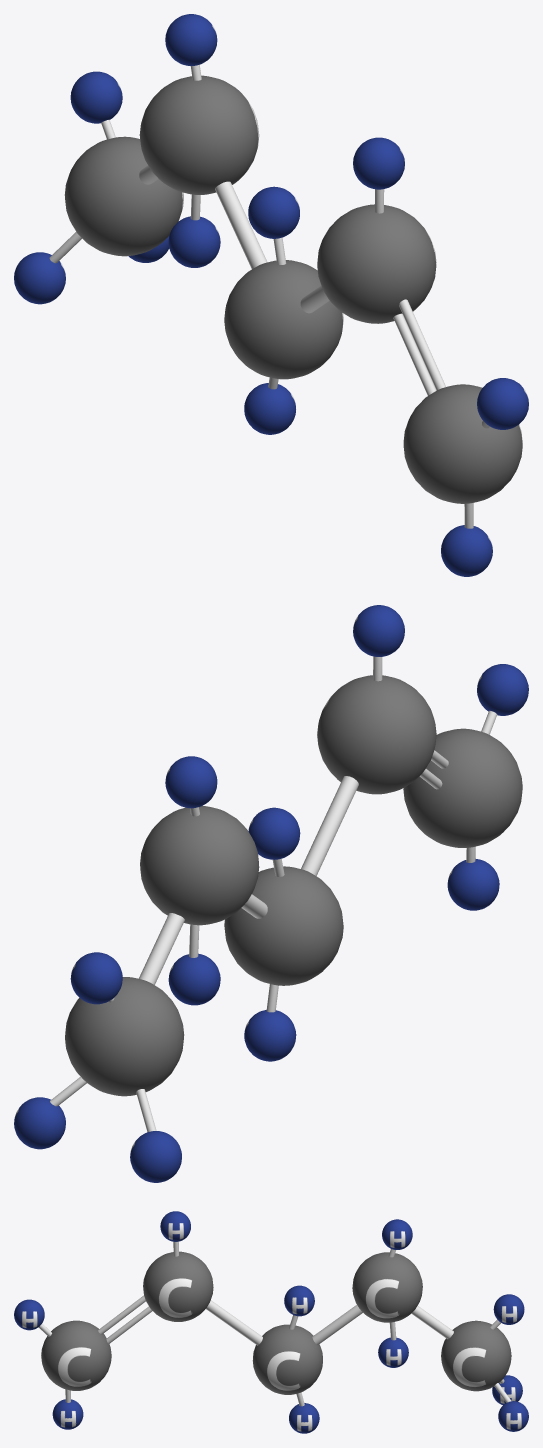
File: pentene.glb
3 views of the same model, one above another, from view 1: azimuth 30°, elevation 25°; view 2: azimuth 150°, elevation 25°; view 3: azimuth 270°, elevation 25° (orthographic). The views are drawn at different scales.
Parts seen in each view (by area): view 1: carbon3, carbon1, carbon2, carbon, carbon4, hydrogen.003, hydrogen.008, hydrogen.006, hydrogen.009, hydrogen.002, hydrogen.001, hydrogen.007 (+5 smaller); view 2: carbon3, carbon1, carbon4, carbon2, carbon, hydrogen.008, hydrogen.009, hydrogen.003, hydrogen.010, hydrogen.005, hydrogen.002, hydrogen.011 (+5 smaller); view 3: carbon1, carbon3, carbon, carbon4, carbon2, hydrogen.002, hydrogen.006, hydrogen.003, hydrogen.008, hydrogen.009, hydrogen.011, hydrogen.005 (+8 smaller).
Boxes of the visible parts, <box> form: carbon3: <box>139,75,259,194</box>; carbon1: <box>317,204,436,323</box>; carbon2: <box>224,260,343,379</box>; carbon: <box>403,384,522,503</box>; carbon4: <box>64,136,183,256</box>; hydrogen.003: <box>353,137,404,189</box>; hydrogen.008: <box>165,14,217,65</box>; hydrogen.006: <box>248,186,299,238</box>; hydrogen.009: <box>70,71,122,123</box>; hydrogen.002: <box>477,378,528,429</box>; hydrogen.001: <box>441,525,492,576</box>; hydrogen.007: <box>168,216,220,267</box>; carbon3: <box>140,806,259,925</box>; carbon1: <box>317,675,436,794</box>; carbon4: <box>65,977,184,1096</box>; carbon2: <box>224,866,343,985</box>; carbon: <box>403,728,522,847</box>; hydrogen.008: <box>165,756,217,808</box>; hydrogen.009: <box>70,952,122,1004</box>; hydrogen.003: <box>353,605,404,656</box>; hydrogen.010: <box>130,1131,181,1182</box>; hydrogen.005: <box>244,1010,296,1061</box>; hydrogen.002: <box>477,664,528,715</box>; hydrogen.011: <box>14,1097,65,1149</box>; carbon1: <box>143,1251,213,1321</box>; carbon3: <box>352,1252,422,1322</box>; carbon: <box>41,1320,111,1390</box>; carbon4: <box>441,1320,511,1391</box>; carbon2: <box>252,1324,322,1394</box>; hydrogen.002: <box>14,1299,44,1330</box>; hydrogen.006: <box>284,1285,314,1316</box>; hydrogen.003: <box>160,1211,190,1241</box>; hydrogen.008: <box>382,1219,412,1249</box>; hydrogen.009: <box>493,1294,524,1324</box>; hydrogen.011: <box>498,1401,528,1431</box>; hydrogen.005: <box>289,1403,319,1433</box>.
Size of the model in its own units: 0.8744 by 1.99 by 4.23.
4 materials, 2 textured.
